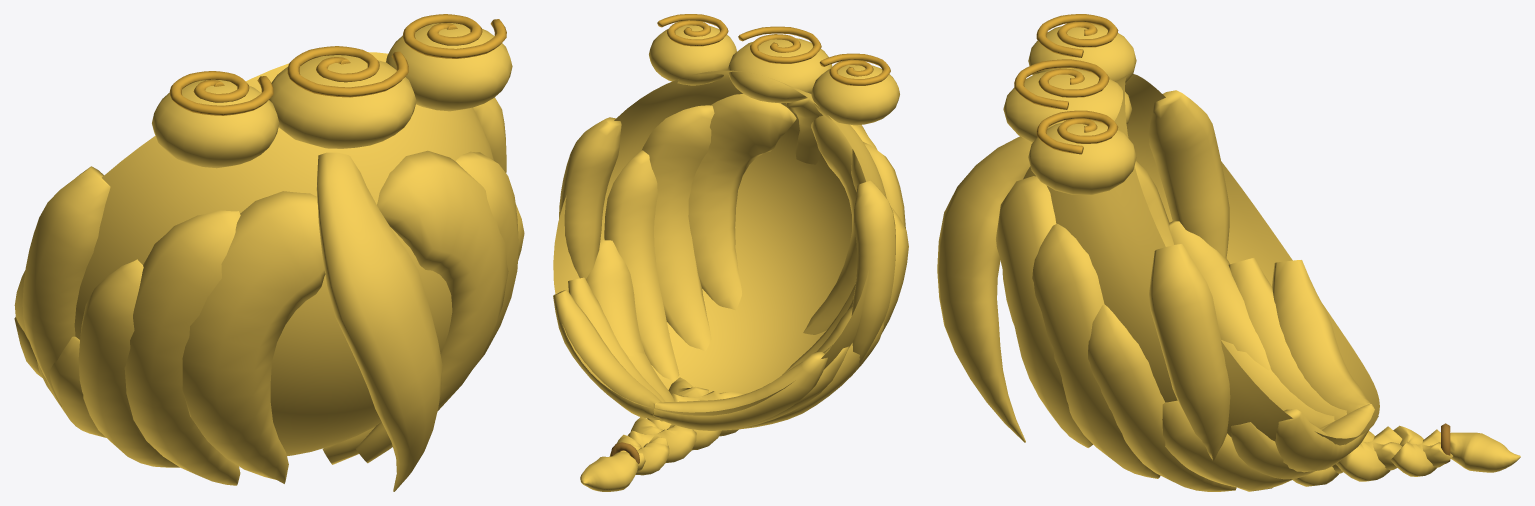
Rendered from 03_giorno_rolls.obj.
3 renders of one model, left to right at view 1: azimuth 30°, elevation 25°; view 2: azimuth 150°, elevation 25°; view 3: azimuth 270°, elevation 25°, orthographic. The views are drawn at different scales.
Parts seen in each view (by area): view 1: 03_giorno_rolls; view 2: 03_giorno_rolls; view 3: 03_giorno_rolls.
Boxes of the visible parts, x1,y1,x2,y2 form: 03_giorno_rolls: [14, 14, 524, 491]; 03_giorno_rolls: [553, 14, 908, 491]; 03_giorno_rolls: [937, 14, 1520, 491].
Bounding box in the file's own units: 3.14 × 3.03 × 3.98.
